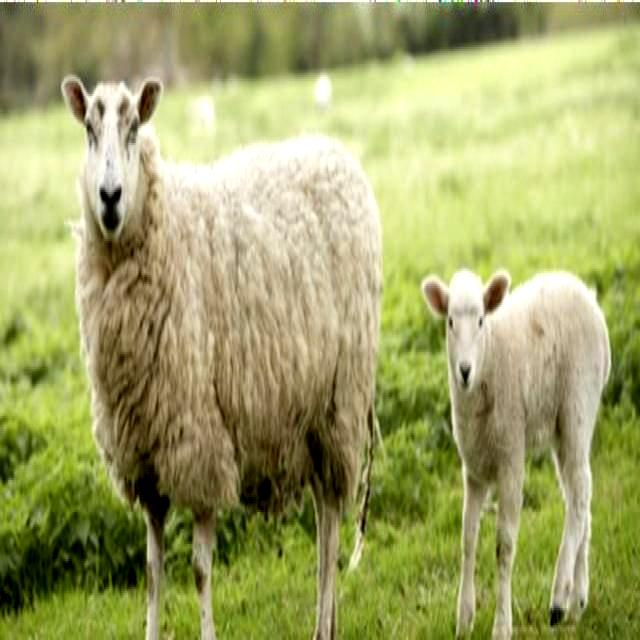sheep: (61, 77, 385, 640), (424, 268, 612, 640)
